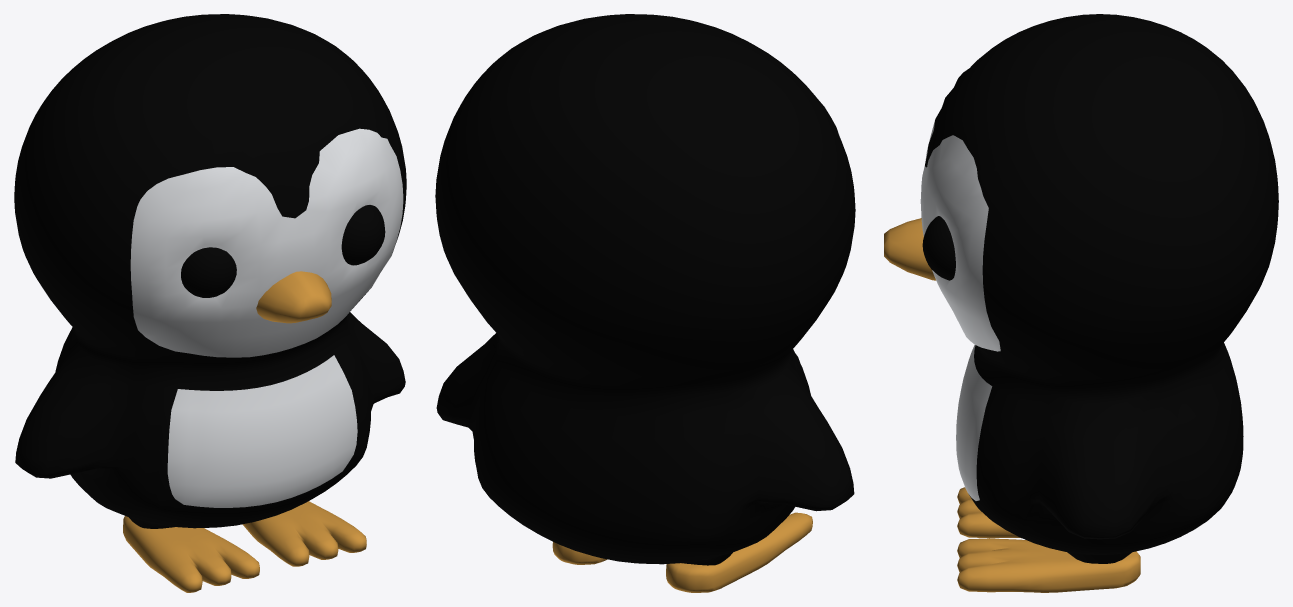
Rendered from penguin.fbx.
The picture shows the model from 3 angles, left to right: view 1: azimuth 30°, elevation 25°; view 2: azimuth 150°, elevation 25°; view 3: azimuth 270°, elevation 25°; orthographic projection. The views are drawn at different scales.
Visible parts, largest first — view 1: pCube1, pCube2, pCube3, pCube4, pSphere2, pSphere1; view 2: pCube1, pCube2, pCube3; view 3: pCube1, pCube3, pCube4, pSphere1, pCube2.
Part boxes in pixels (left/top/right/bottom): pCube1: left=14, top=14, right=406, bottom=528; pCube2: left=123, top=516, right=259, bottom=592; pCube3: left=242, top=501, right=366, bottom=566; pCube4: left=256, top=271, right=331, bottom=323; pSphere2: left=181, top=247, right=236, bottom=297; pSphere1: left=341, top=205, right=385, bottom=265; pCube1: left=435, top=14, right=855, bottom=565; pCube2: left=666, top=512, right=812, bottom=592; pCube3: left=552, top=542, right=607, bottom=564; pCube1: left=920, top=14, right=1278, bottom=563; pCube3: left=957, top=538, right=1140, bottom=592; pCube4: left=884, top=218, right=935, bottom=280; pSphere1: left=922, top=216, right=955, bottom=280; pCube2: left=957, top=487, right=1021, bottom=538.
Size of the model in its own units: 5.76 by 7.23 by 5.05.
